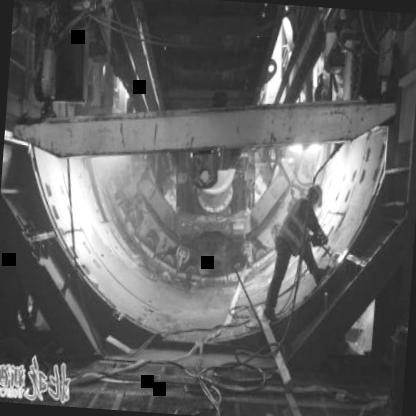helmet: (305, 180, 327, 212)
